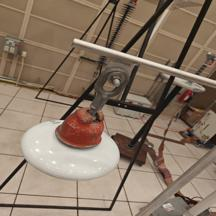insulator: (19, 102, 133, 186)
